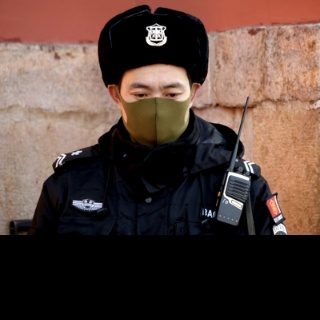with_mask: (121, 80, 192, 145)
